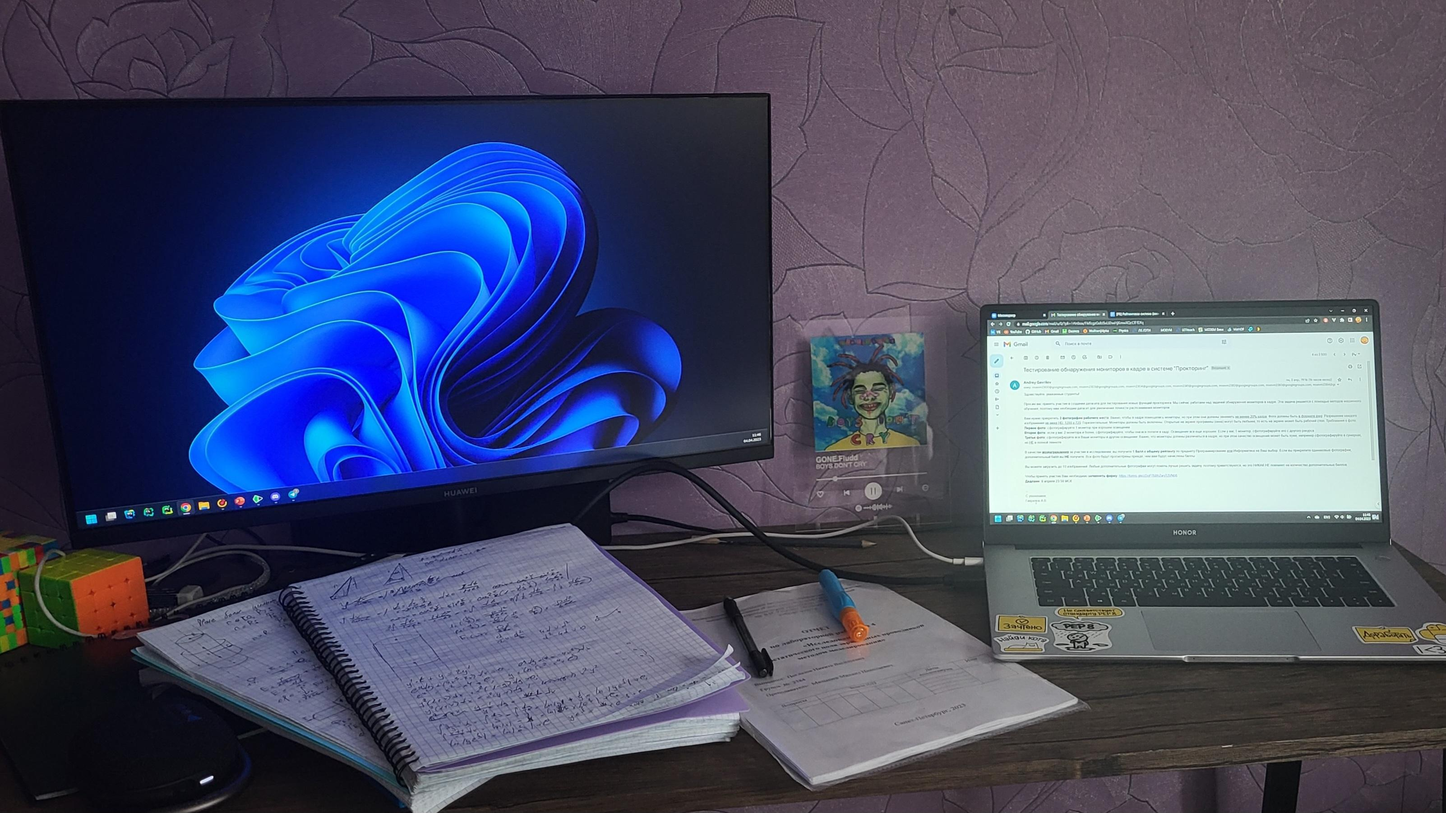monitor: (0, 84, 781, 552), (970, 292, 1397, 546)
